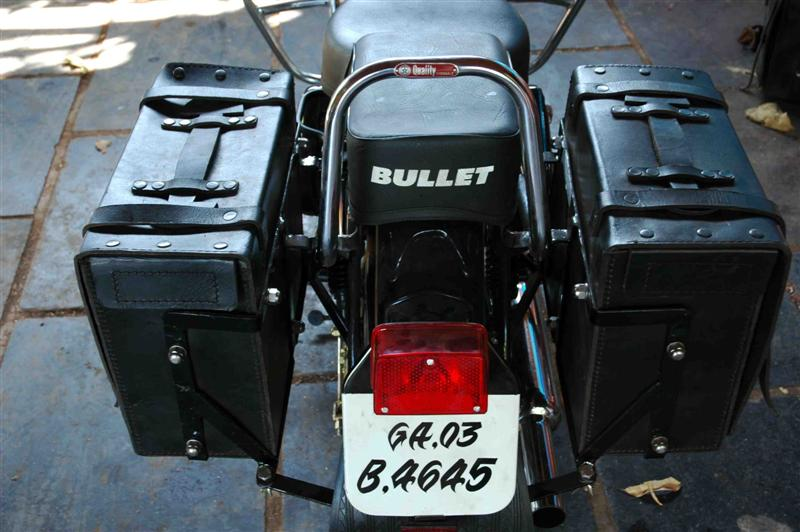number_plate: (340, 415, 522, 516)
